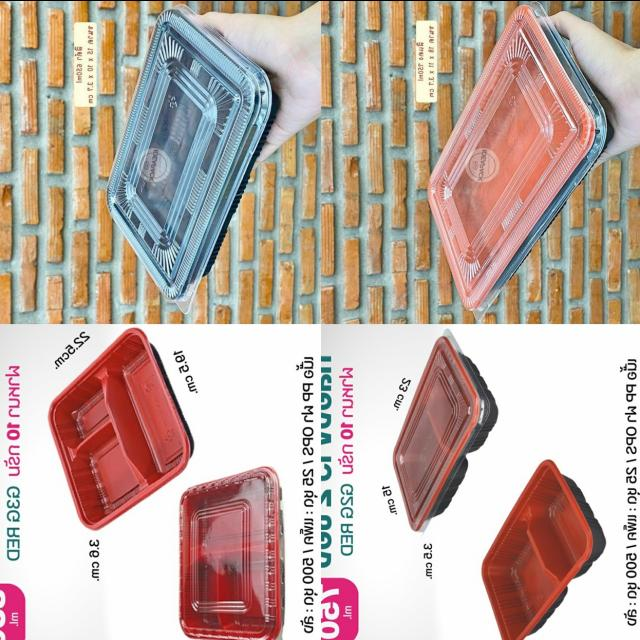plastik: (429, 3, 609, 317), (107, 5, 277, 312), (49, 327, 193, 529), (482, 460, 605, 640), (393, 333, 497, 530), (180, 466, 283, 640)
